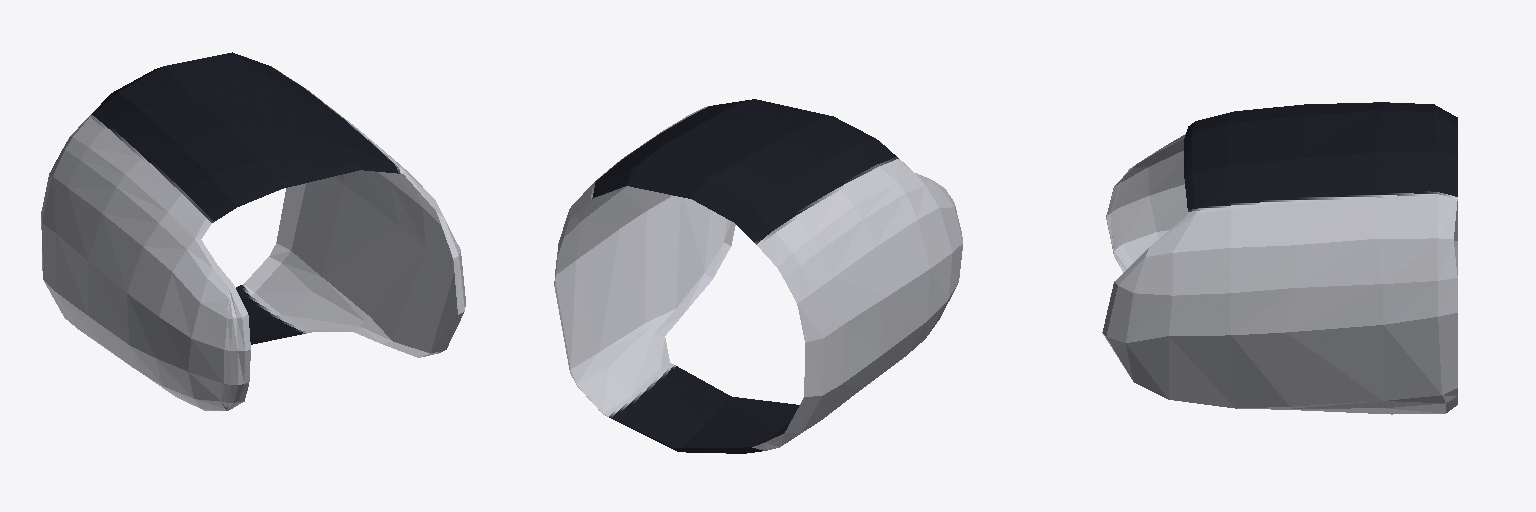
3 views of the same model, side by side, from view 1: azimuth 30°, elevation 25°; view 2: azimuth 150°, elevation 25°; view 3: azimuth 270°, elevation 25° (orthographic).
Visible parts, largest first — view 1: L_SHOULDER_R-468-FACES; view 2: L_SHOULDER_R-468-FACES; view 3: L_SHOULDER_R-468-FACES.
Part boxes in pixels (bbox=[...]): L_SHOULDER_R-468-FACES: bbox=[41, 52, 465, 410]; L_SHOULDER_R-468-FACES: bbox=[554, 99, 962, 453]; L_SHOULDER_R-468-FACES: bbox=[1102, 102, 1457, 414].
Bounding box in the file's own units: 0.0861 × 0.0775 × 0.091.
Materials: 1 (1 with a texture image).